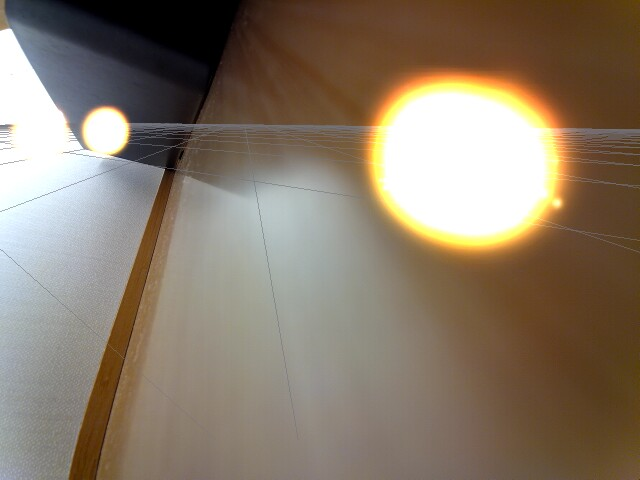fire: (366, 70, 569, 257), (9, 103, 74, 160), (80, 105, 132, 156)
